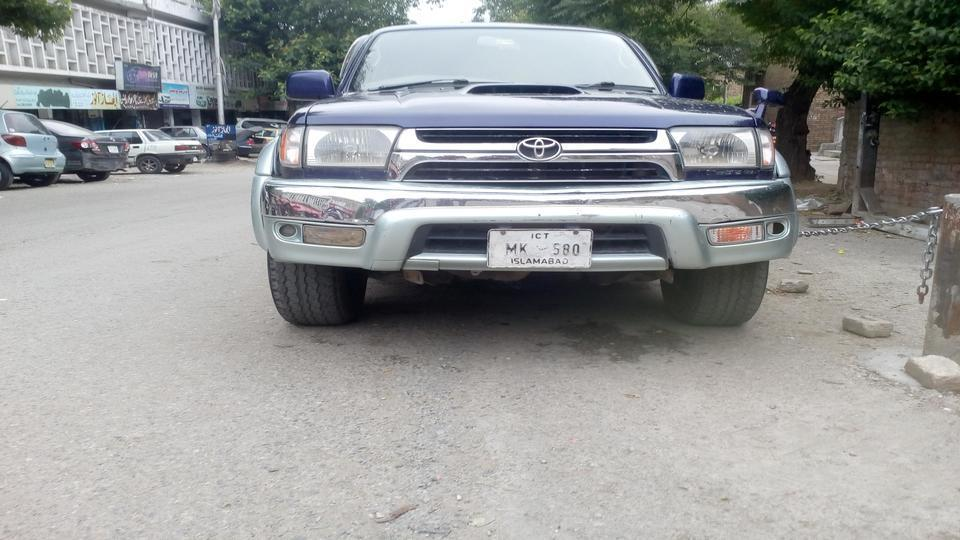NumberPlate: (484, 229, 596, 273)
